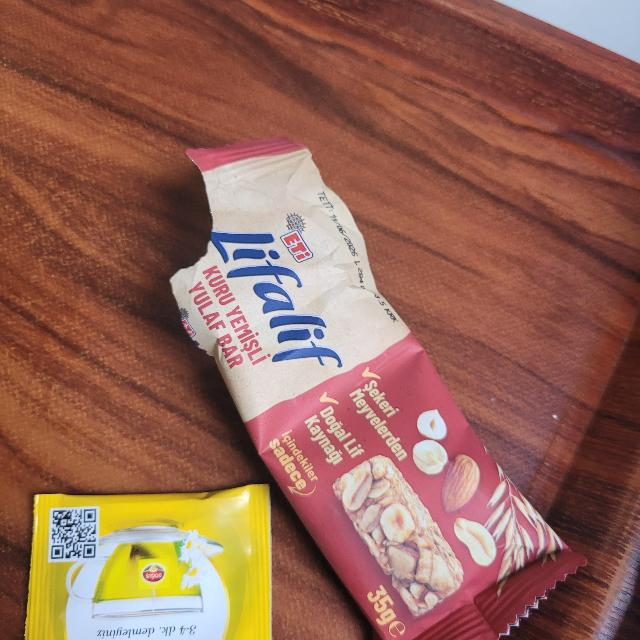Plastik: (171, 136, 588, 639), (23, 481, 279, 640)
